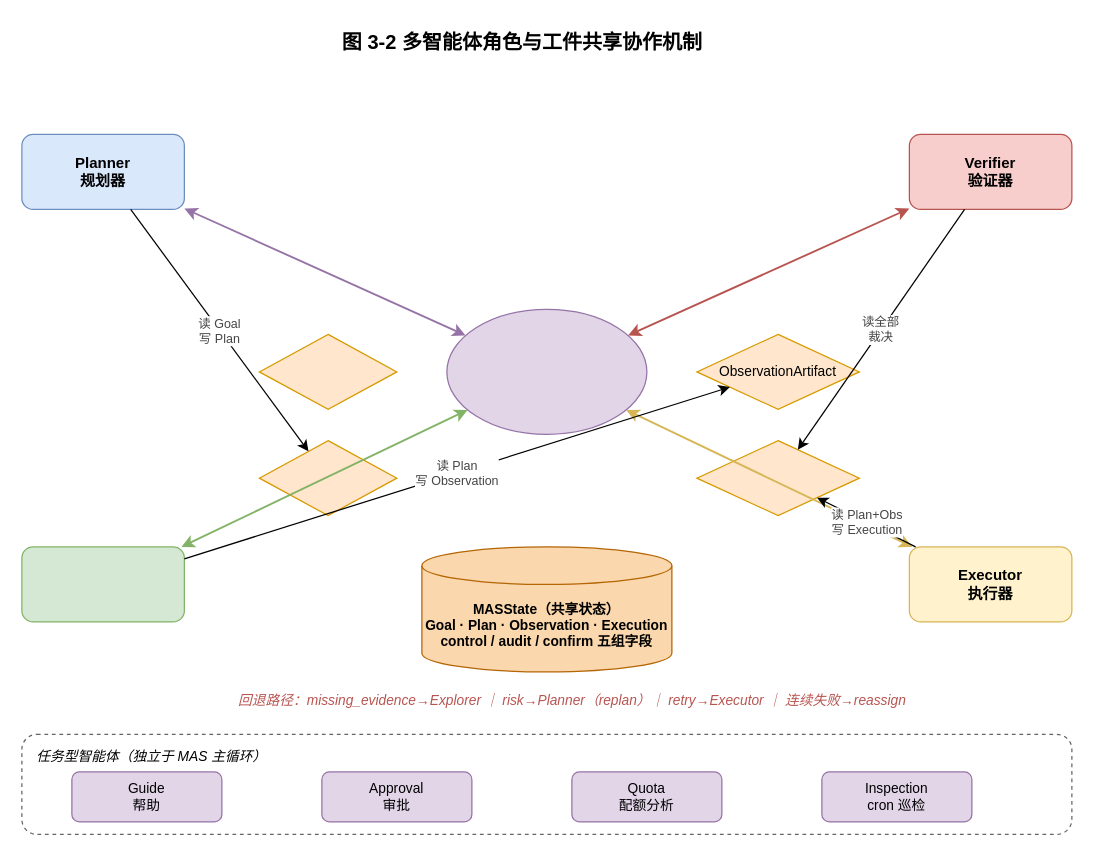
Some shapes in this 1094 by 856 pixel diagram are drawn without their labels. Here are the shapes that lost their labels. From the top down, the centre of each, then its label:
At point (327, 371): "GoalArtifact".
At point (546, 371): "Coordinator 协调器 （状态机驱动）".
At point (327, 477): "PlanArtifact".
At point (777, 477): "ExecutionArtifact".
At point (102, 584): "Explorer 探索器".
